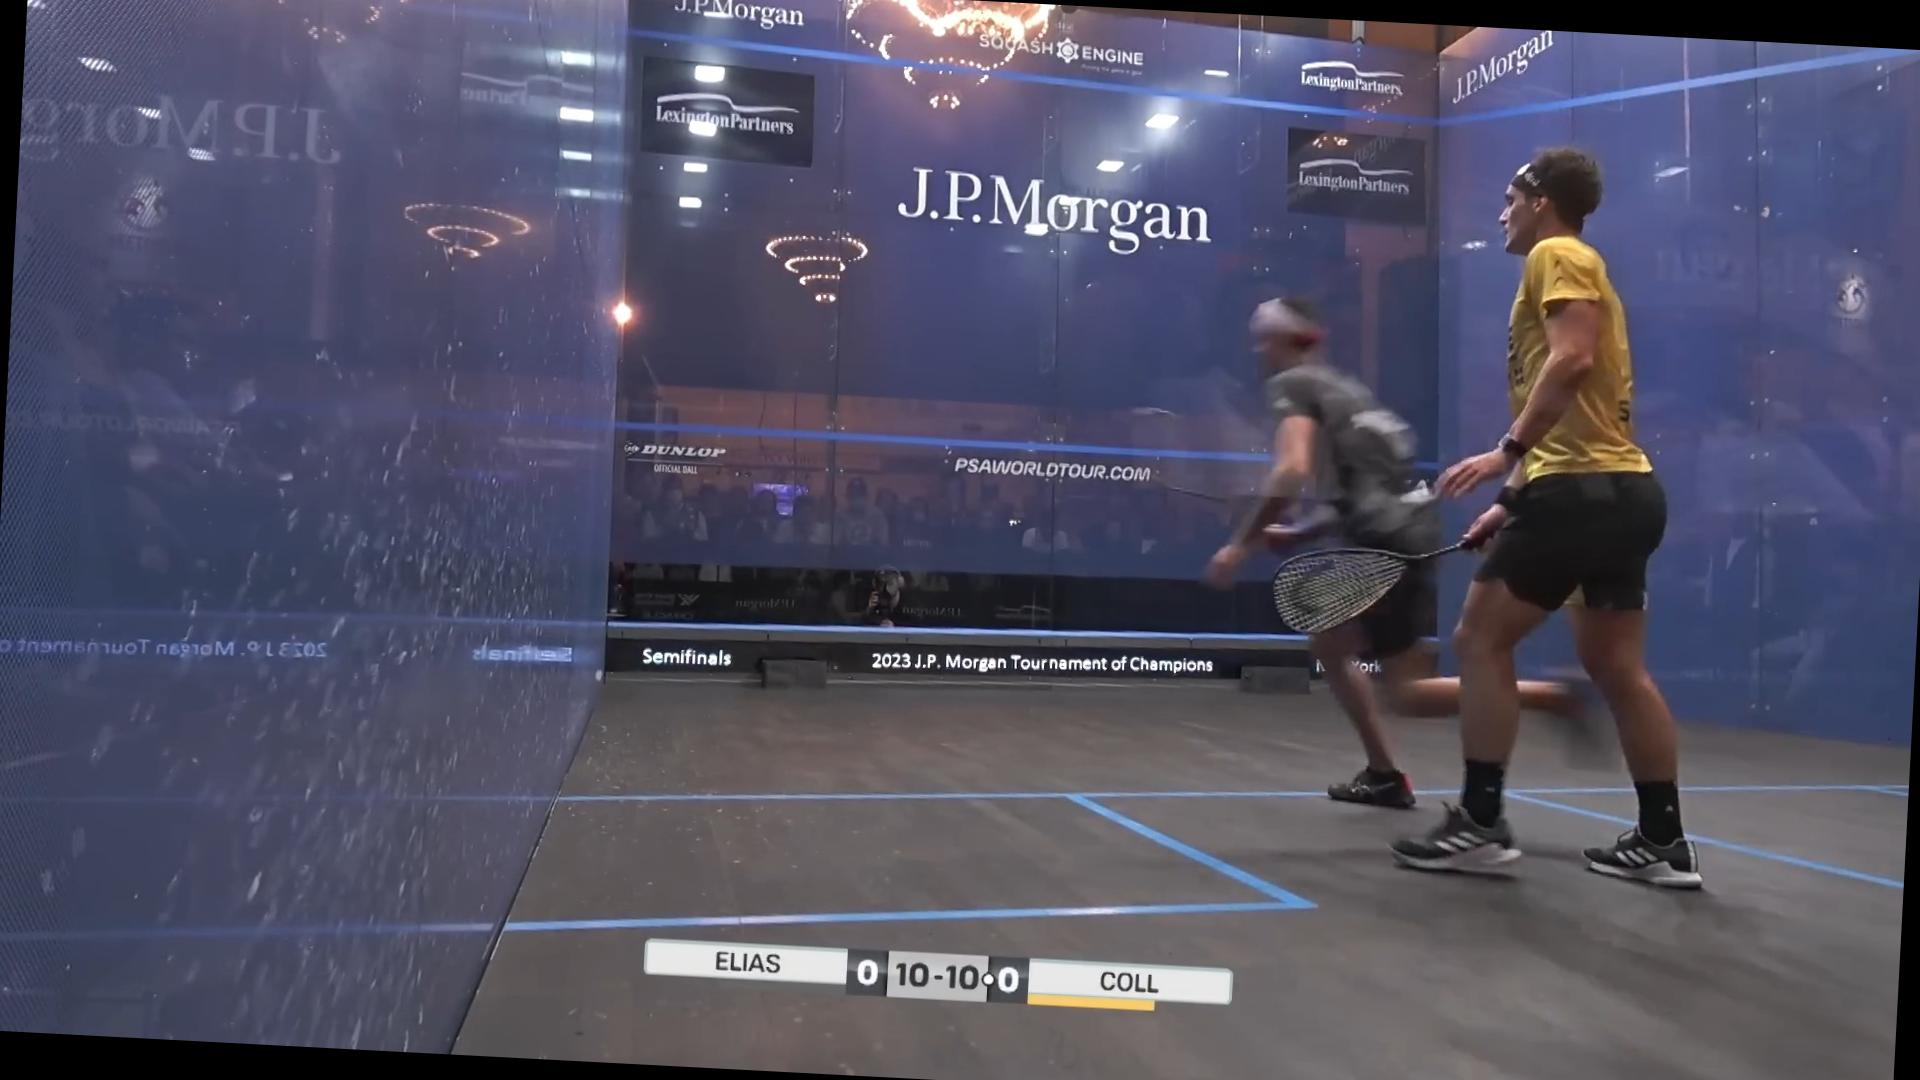Racket: (1262, 529, 1477, 654)
